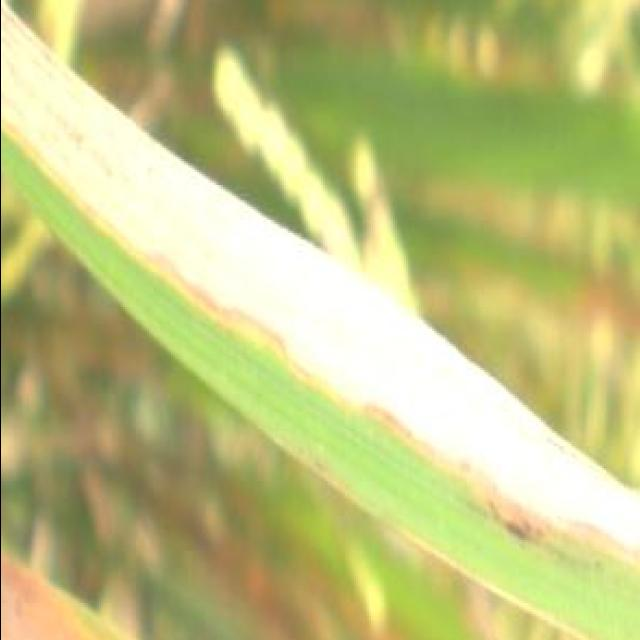Bacterial_Leaf_Blight: (235, 324, 640, 606)
